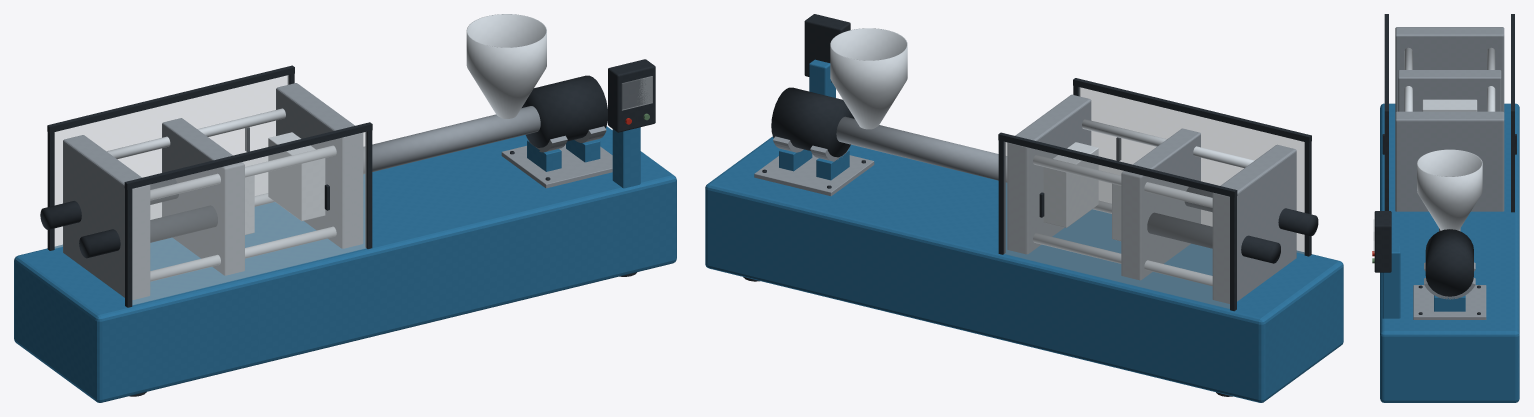
File: inyectora-montaje-v2.glb
3 renders of one model, left to right at view 1: azimuth 30°, elevation 25°; view 2: azimuth 150°, elevation 25°; view 3: azimuth 270°, elevation 25°, orthographic. The views are drawn at different scales.
Visible parts, largest first — view 1: Closed welded machine bed, Clear safety guard, Clear safety guard.001, Rear platen, Moving platen, Fixed platen, Open feed hopper, Injection barrel, Screw drive gearbox, Mould half fixed (placeholder), Control console, Clamping hydraulic cylinder (+15 smaller); view 2: Closed welded machine bed, Clear safety guard.001, Clear safety guard, Rear platen, Moving platen, Fixed platen, Open feed hopper, Injection barrel, Screw drive gearbox, Mould half fixed (placeholder), Clamping hydraulic cylinder.001, Injection drive support base plate (+13 smaller); view 3: Closed welded machine bed, Fixed platen, Rear platen, Open feed hopper, Moving platen, Screw drive gearbox, Injection drive support base plate, Controller pedestal, Control console, Mould half moving (placeholder), Guard upper frame, Guard upright.001 (+6 smaller).
Boxes of the visible parts, left/top/right/bottom form: Closed welded machine bed: left=14, top=126, right=676, bottom=402; Clear safety guard: left=132, top=132, right=366, bottom=305; Clear safety guard.001: left=54, top=75, right=288, bottom=248; Rear platen: left=63, top=135, right=150, bottom=299; Moving platen: left=162, top=118, right=244, bottom=275; Fixed platen: left=276, top=83, right=363, bottom=248; Open feed hopper: left=466, top=14, right=546, bottom=118; Injection barrel: left=363, top=106, right=540, bottom=173; Screw drive gearbox: left=522, top=75, right=607, bottom=147; Mould half fixed (placeholder): left=268, top=132, right=325, bottom=220; Control console: left=608, top=59, right=655, bottom=132; Clamping hydraulic cylinder: left=79, top=205, right=217, bottom=258; Closed welded machine bed: left=705, top=136, right=1343, bottom=402; Clear safety guard.001: left=1004, top=142, right=1229, bottom=308; Clear safety guard: left=1079, top=87, right=1304, bottom=253; Rear platen: left=1212, top=144, right=1296, bottom=303; Moving platen: left=1121, top=128, right=1200, bottom=280; Fixed platen: left=1007, top=94, right=1091, bottom=254; Open feed hopper: left=830, top=28, right=907, bottom=129; Injection barrel: left=836, top=116, right=1007, bottom=182; Screw drive gearbox: left=771, top=87, right=854, bottom=157; Mould half fixed (placeholder): left=1043, top=142, right=1098, bottom=227; Clamping hydraulic cylinder.001: left=1147, top=212, right=1280, bottom=263; Injection drive support base plate: left=754, top=154, right=874, bottom=196; Closed welded machine bed: left=1380, top=103, right=1519, bottom=402; Fixed platen: left=1395, top=111, right=1504, bottom=211; Rear platen: left=1395, top=27, right=1504, bottom=112; Open feed hopper: left=1417, top=149, right=1482, bottom=230; Moving platen: left=1398, top=70, right=1501, bottom=111; Screw drive gearbox: left=1425, top=229, right=1473, bottom=296; Injection drive support base plate: left=1413, top=285, right=1486, bottom=319; Controller pedestal: left=1382, top=246, right=1400, bottom=318; Control console: left=1374, top=211, right=1391, bottom=272; Mould half moving (placeholder): left=1422, top=99, right=1477, bottom=111; Guard upper frame: left=1384, top=14, right=1388, bottom=116; Guard upright.001: left=1384, top=116, right=1388, bottom=210.
Bounding box in the file's own units: 4.5 × 1.75 × 1.21.
Materials: 7 (7 with a texture image).
